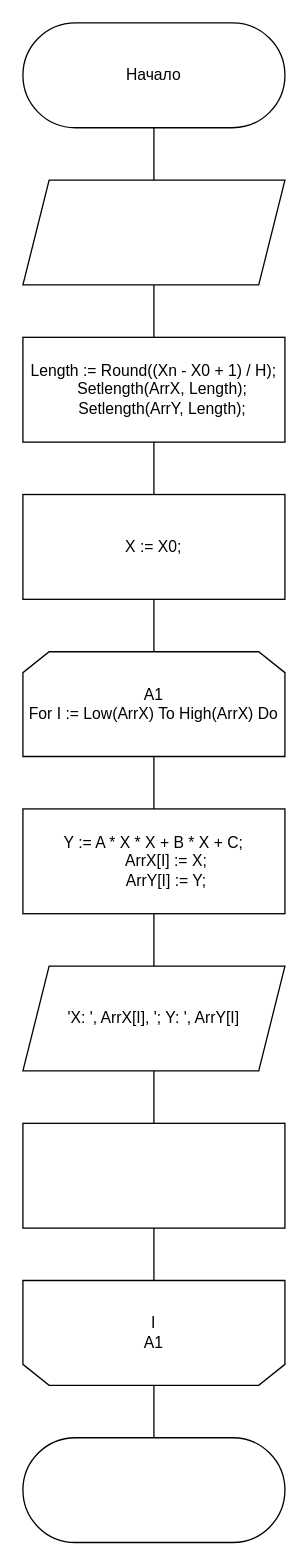
The diagram is 308 pixels wide and 1565 high, and some of its shapes have lost their labels. The centre of each missing label's shape, as x and y in pixels:
X := X + H;: pixel 153 1175
X0, Xn, X, H, A, B, C: pixel 153 232
Конец: pixel 153 1489
